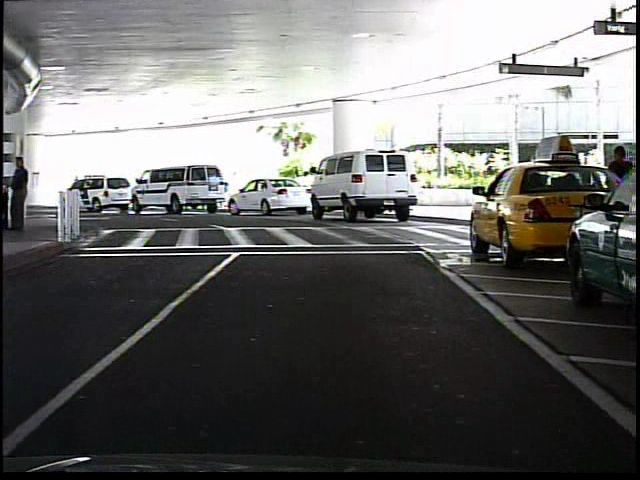person: (605, 141, 640, 254), (14, 152, 34, 233)
